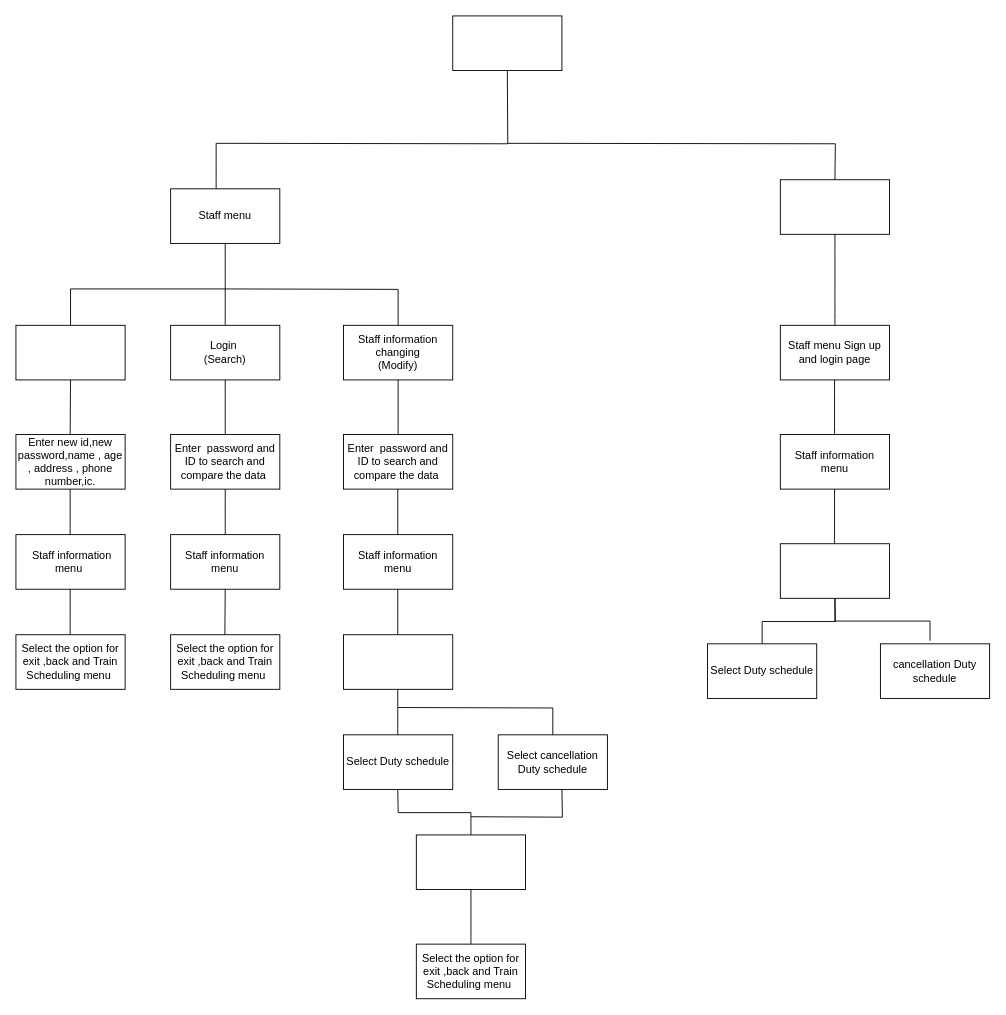
The diagram is 1006 pixels wide and 1015 high, and some of its shapes have lost their labels. The shapes that lost their labels are listed below. From the top down, each one's box as (x1, y1, x2, y2) in pixels, then its label:
(452, 15, 562, 71): Staff
(779, 179, 890, 234): Display screen
(15, 324, 125, 380): Sign up (ADD)
(779, 543, 890, 598): Train Scheduling menu
(343, 634, 453, 689): Select Train Scheduling menu
(415, 834, 526, 890): Enter time that whan to be change
